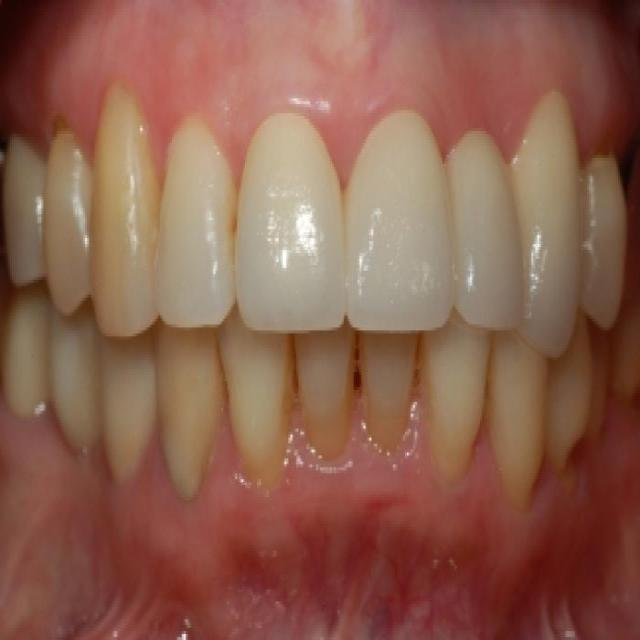CALCULUS: (99, 118, 141, 263), (361, 406, 404, 446), (316, 410, 344, 458)
